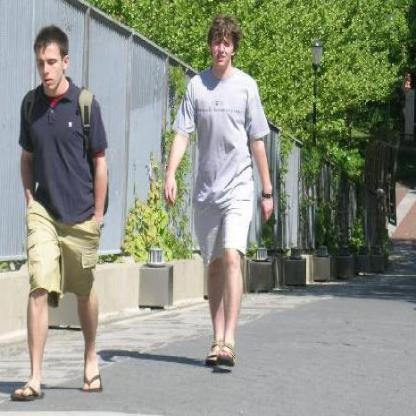person: (158, 5, 288, 371), (4, 22, 115, 403)
